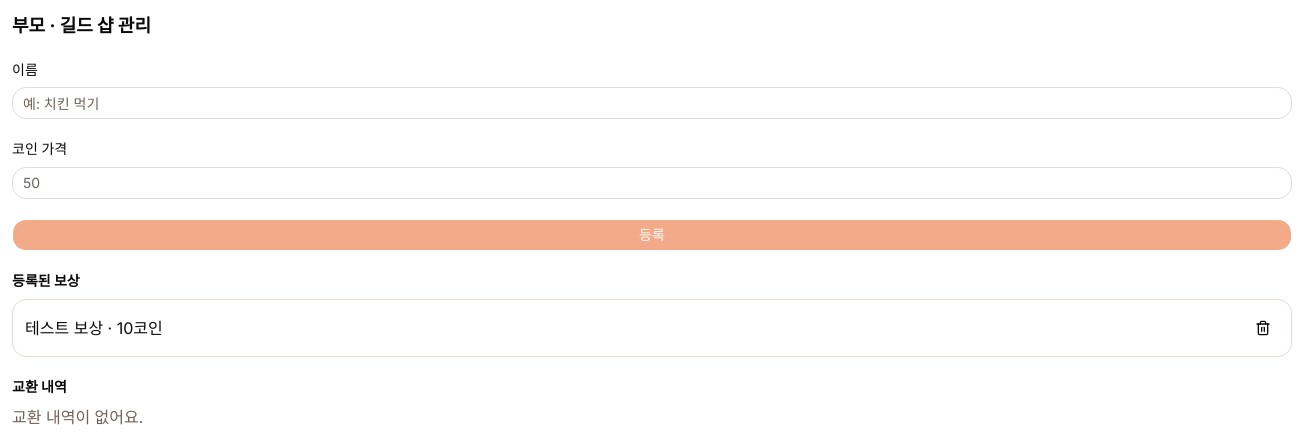
길드 샵 — 부모 보상 등록 (S9) › [S9-3] 보상을 삭제하면 목록에서 사라진다
Expected: the text "테스트 보상 · 10코인" is shown, left=25, top=318, right=163, bottom=338
Click the button named "테스트 보상 삭제". click: [1263, 328]
box: left=1247, top=312, right=1279, bottom=344
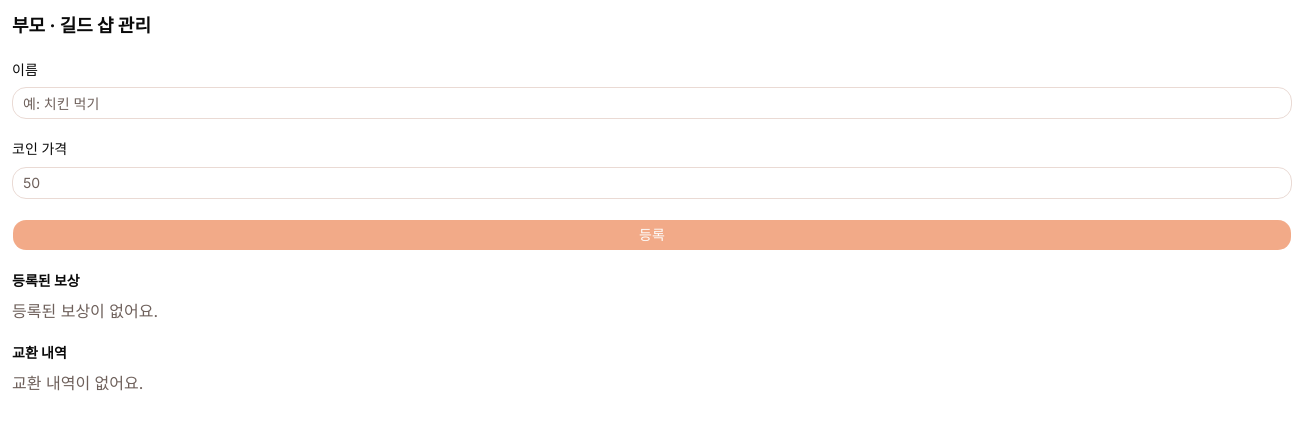
Expected: the text "테스트 보상 · 10코인" is gone
